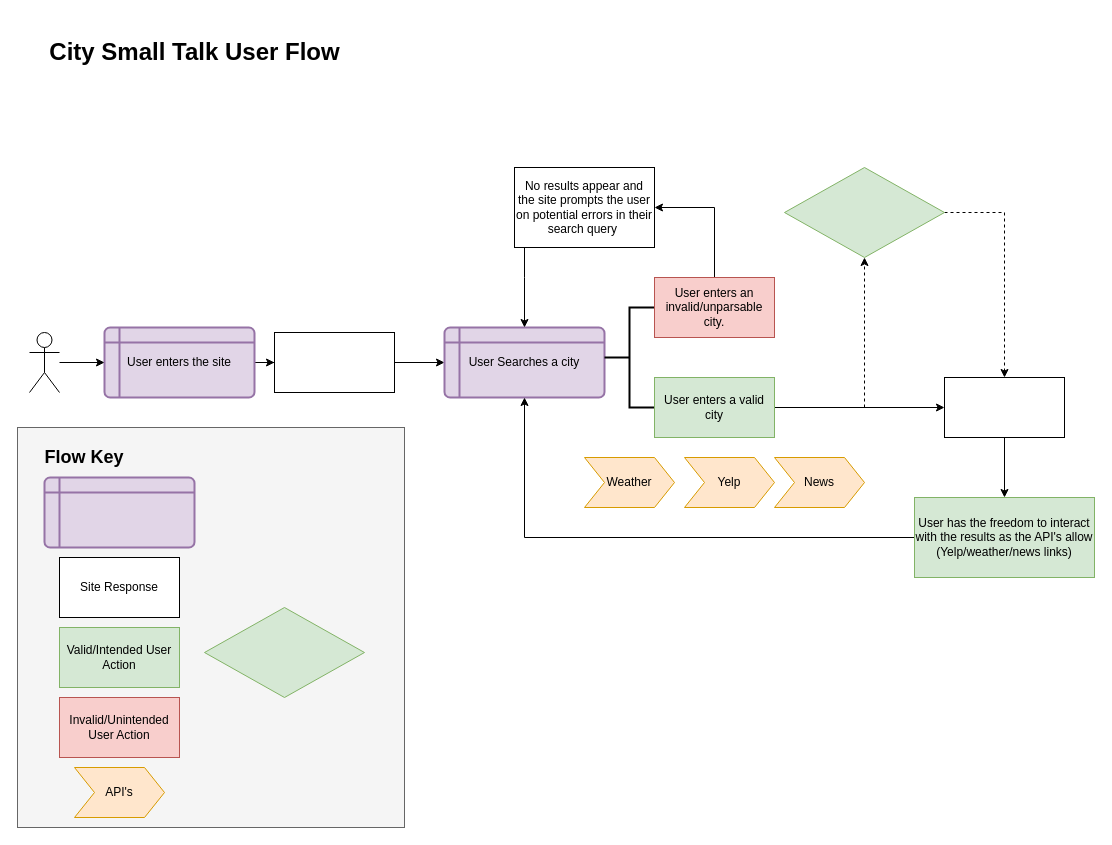
This 1112x845 diagram has some shape labels left out. The centre of each missing label's shape, as x and y in pixels:
"Actor" goes at (x=44, y=362).
"Optional Valid User Action" goes at (x=284, y=652).
"The site gives instructions on how to search for a city's small talk" goes at (x=334, y=362).
"User filters Yelp results" goes at (x=864, y=212).
"User gets the City's Small Talk results listed outwardly." goes at (x=1004, y=407).
"User View" goes at (x=119, y=512).
